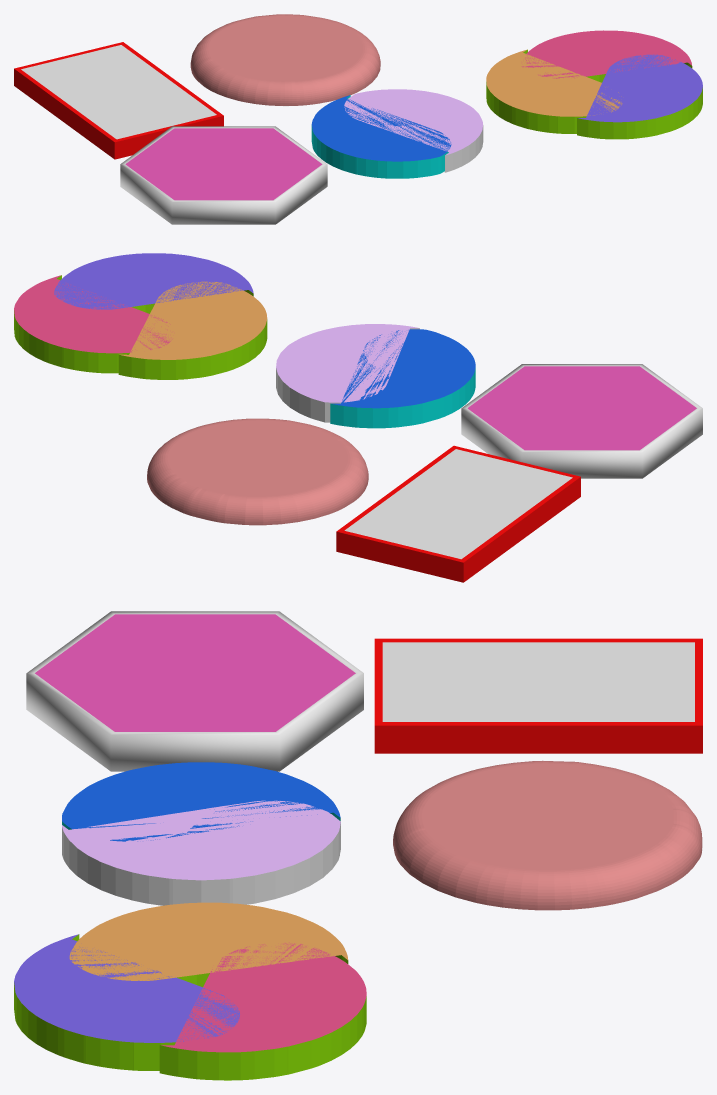
Rendered from PINS.fbx.
3 views of the same model, one above another, from view 1: azimuth 30°, elevation 25°; view 2: azimuth 150°, elevation 25°; view 3: azimuth 270°, elevation 25° (orthographic). The views are drawn at different scales.
Parts seen in each view (by area): view 1: Tri-Interlock, Hexagon, Round, Rectangle, Interlocking; view 2: Tri-Interlock, Hexagon, Rectangle, Round, Interlocking; view 3: Tri-Interlock, Hexagon, Rectangle, Round, Interlocking.
Boxes of the visible parts, left/top/right/bottom form: Tri-Interlock: left=486, top=30, right=702, bottom=139; Hexagon: left=120, top=126, right=327, bottom=224; Round: left=190, top=14, right=380, bottom=106; Rectangle: left=14, top=42, right=223, bottom=159; Interlocking: left=311, top=89, right=483, bottom=178; Tri-Interlock: left=14, top=253, right=267, bottom=379; Hexagon: left=461, top=364, right=702, bottom=478; Rectangle: left=336, top=445, right=580, bottom=582; Round: left=147, top=418, right=368, bottom=525; Interlocking: left=276, top=324, right=475, bottom=428; Tri-Interlock: left=14, top=902, right=366, bottom=1080; Hexagon: left=26, top=611, right=363, bottom=771; Rectangle: left=374, top=638, right=702, bottom=753; Round: left=393, top=760, right=702, bottom=910; Interlocking: left=62, top=762, right=340, bottom=905.
Bounding box in the file's own units: 15.16 × 0.5978 × 10.2.
